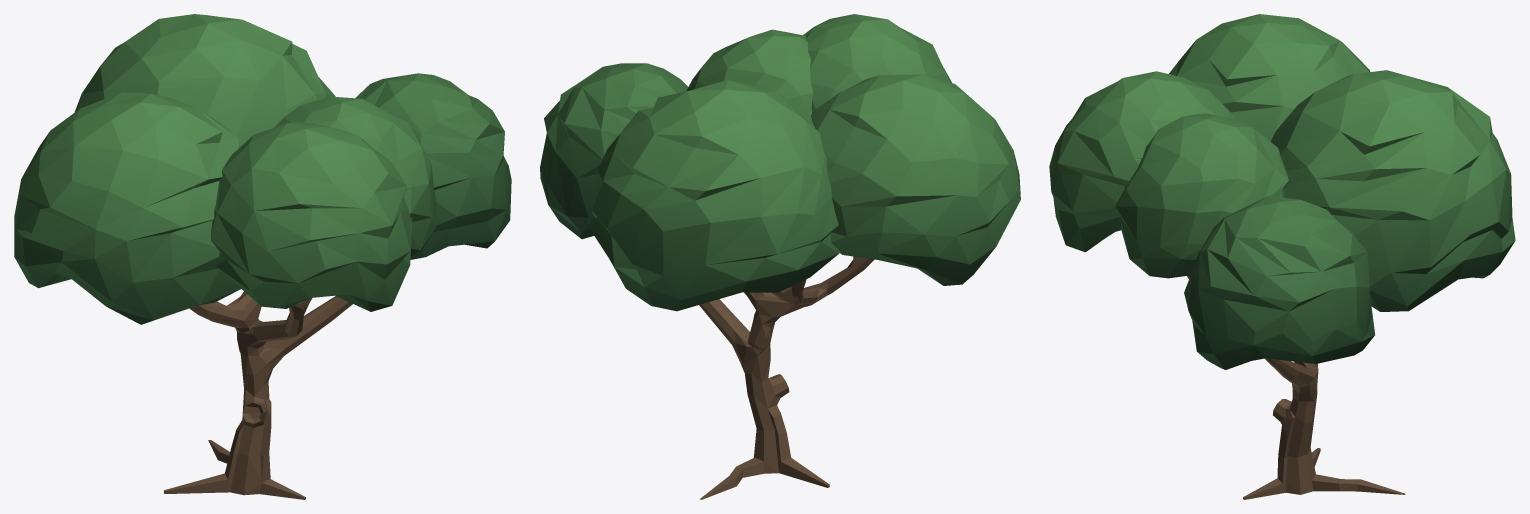
File: lp_tree_01.glb
The picture shows the model from 3 angles, left to right: view 1: azimuth 30°, elevation 25°; view 2: azimuth 150°, elevation 25°; view 3: azimuth 270°, elevation 25°; orthographic projection. The views are drawn at different scales.
Parts seen in each view (by area): view 1: tree_1; view 2: tree_1; view 3: tree_1.
Part boxes in pixels (left/top/right/bottom): tree_1: left=14, top=14, right=511, bottom=499; tree_1: left=540, top=14, right=1020, bottom=499; tree_1: left=1049, top=14, right=1515, bottom=499.
Size of the model in its own units: 8.61 by 7.43 by 7.67.
